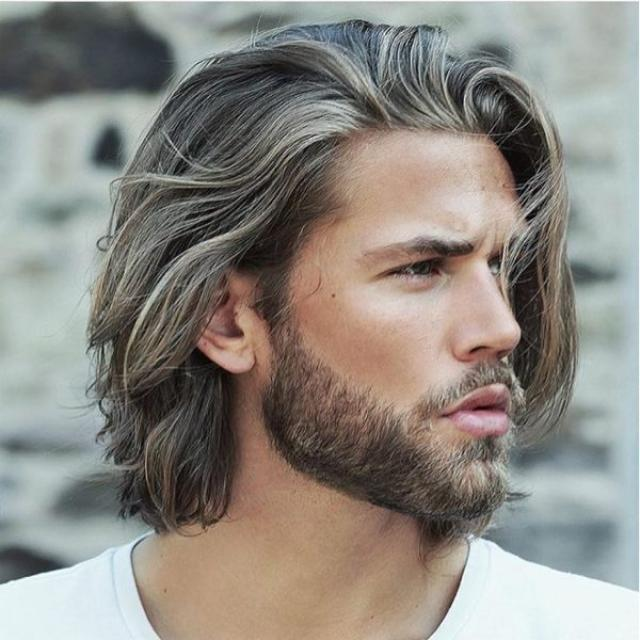Nonhelmet: (80, 17, 582, 544)
